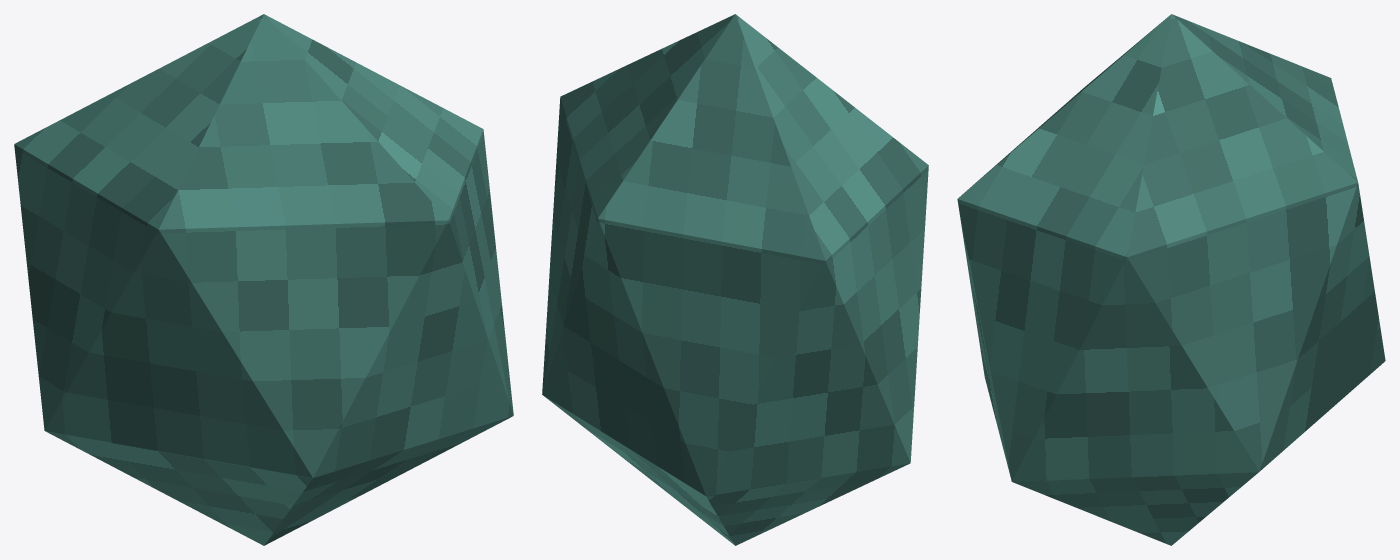
The model's file is rock_49.glb.
The picture shows the model from 3 angles, left to right: view 1: azimuth 30°, elevation 25°; view 2: azimuth 150°, elevation 25°; view 3: azimuth 270°, elevation 25°; orthographic projection.
Visible parts, largest first — view 1: WeatheredStone; view 2: WeatheredStone; view 3: WeatheredStone.
Part boxes in pixels (x1,y1,x2,y2): WeatheredStone: [14, 14, 513, 545]; WeatheredStone: [542, 14, 928, 545]; WeatheredStone: [957, 14, 1385, 545].
Bounding box in the file's own units: 1.6 × 2.06 × 1.5.
Materials: 1 (1 with a texture image).
